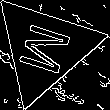M_E: (12, 18, 77, 78)
